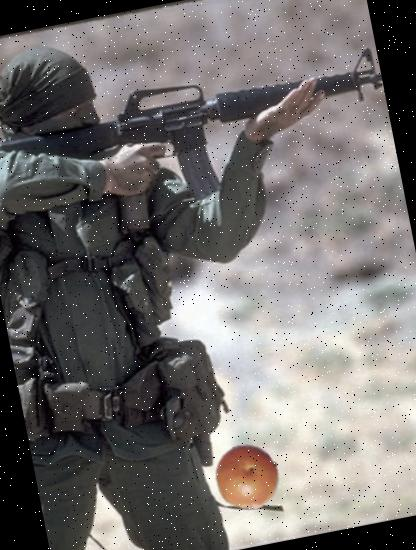Tangelo: (208, 437, 287, 516)
